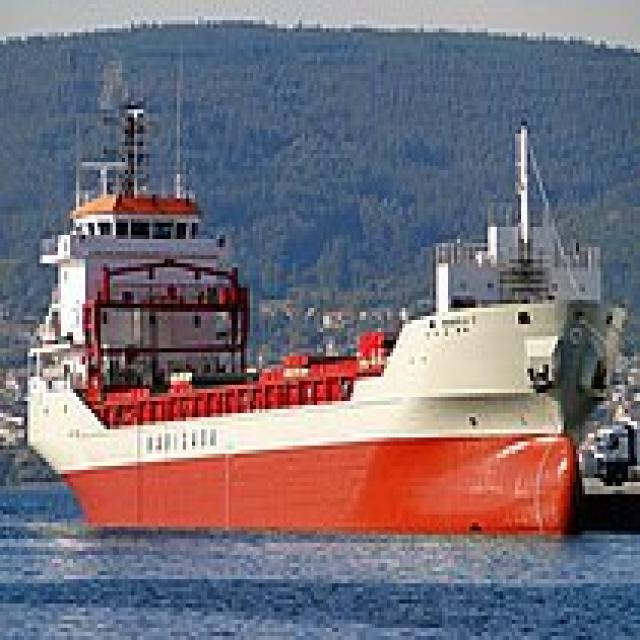Cargo: (21, 93, 606, 539)
